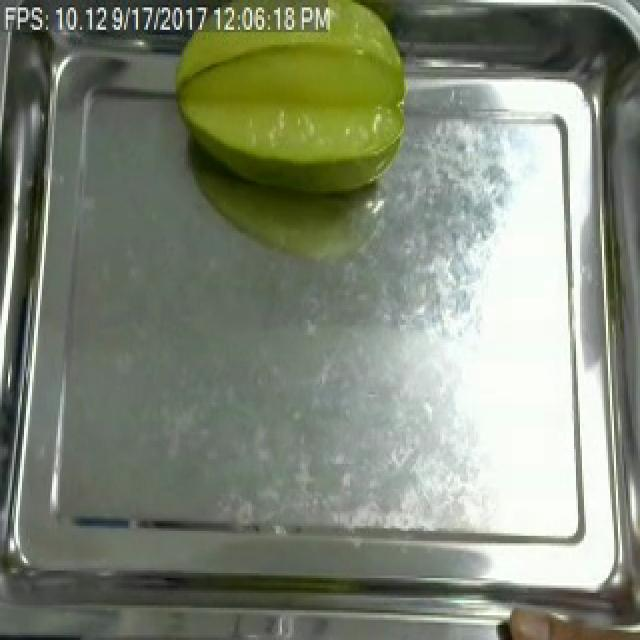fruit: (162, 0, 416, 179)
